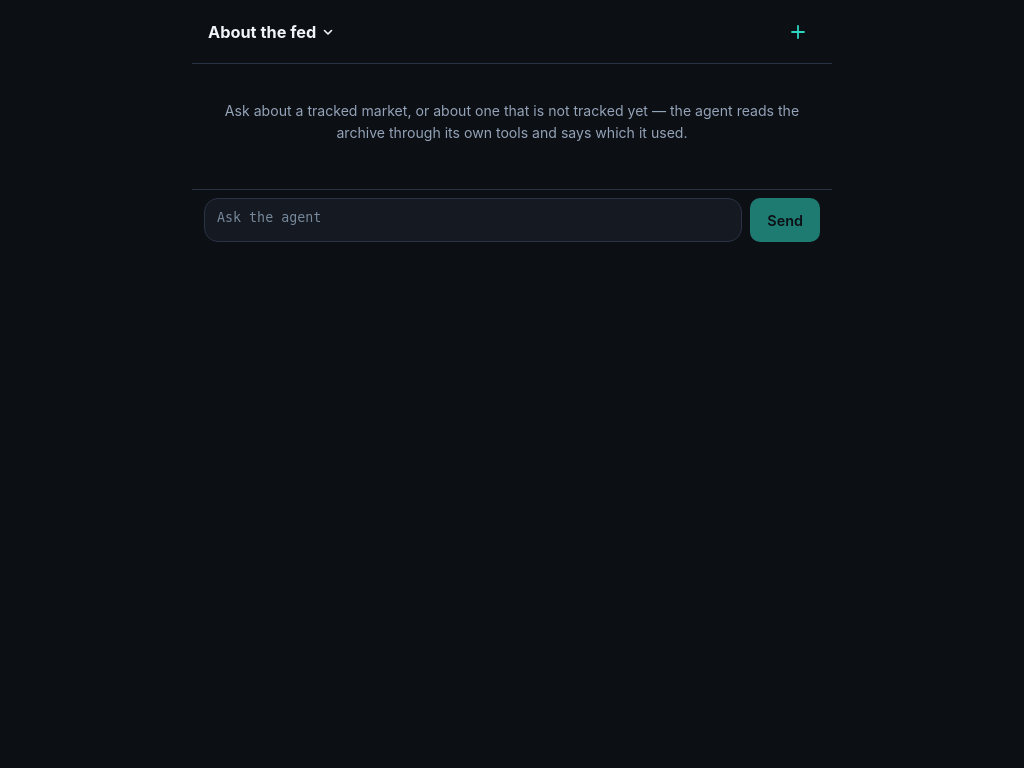
Test: the agent screen › opens a conversation from the history rather than starting over
Click the button with aria-label "Conversations": (262,32) [204, 10, 768, 54]
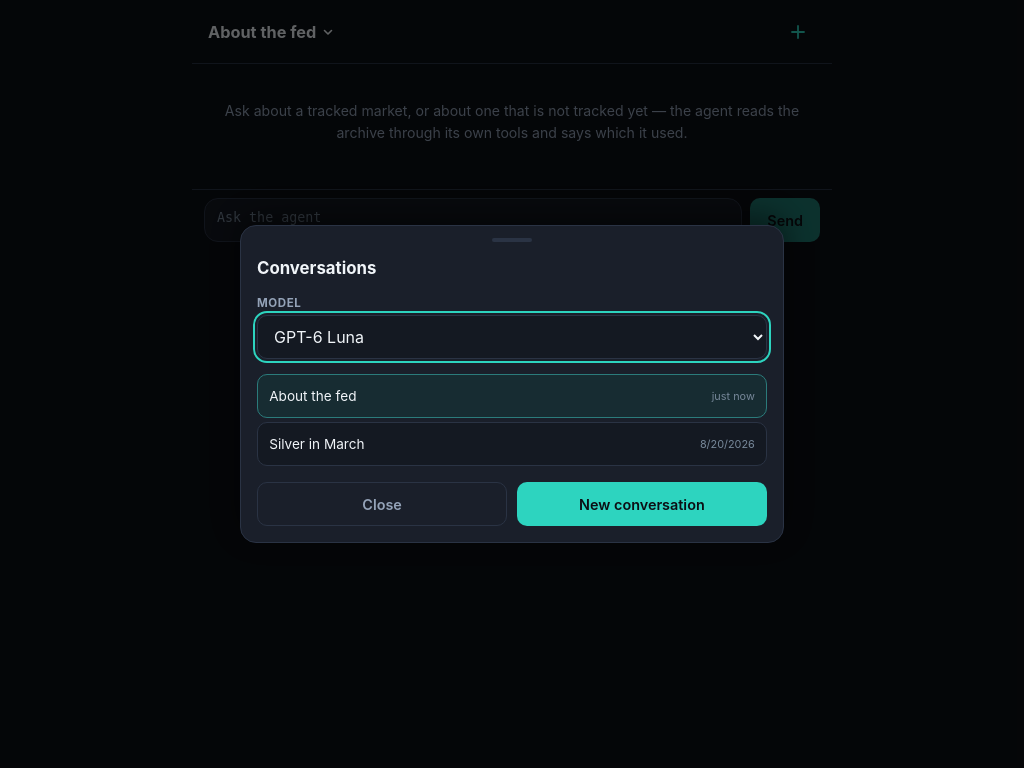
Click the button "Silver in March 8/20/2026": (317,444) [257, 422, 767, 466]
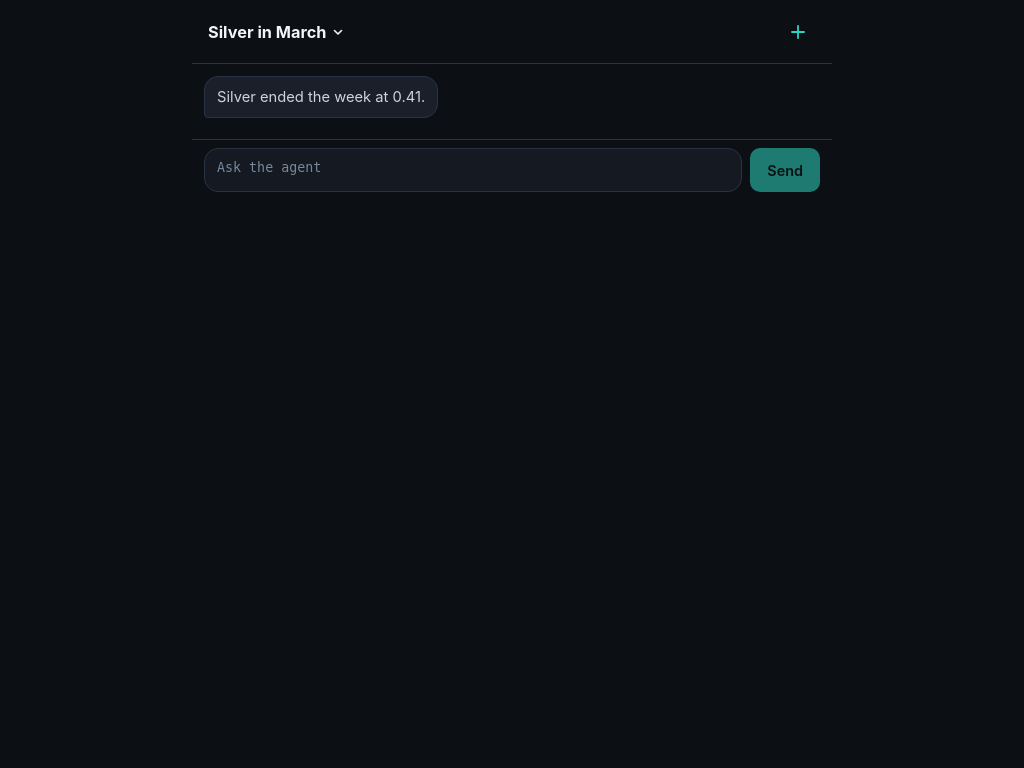
Expected: the text "Silver ended the week at 0.41." is shown, [217, 86, 425, 108]
